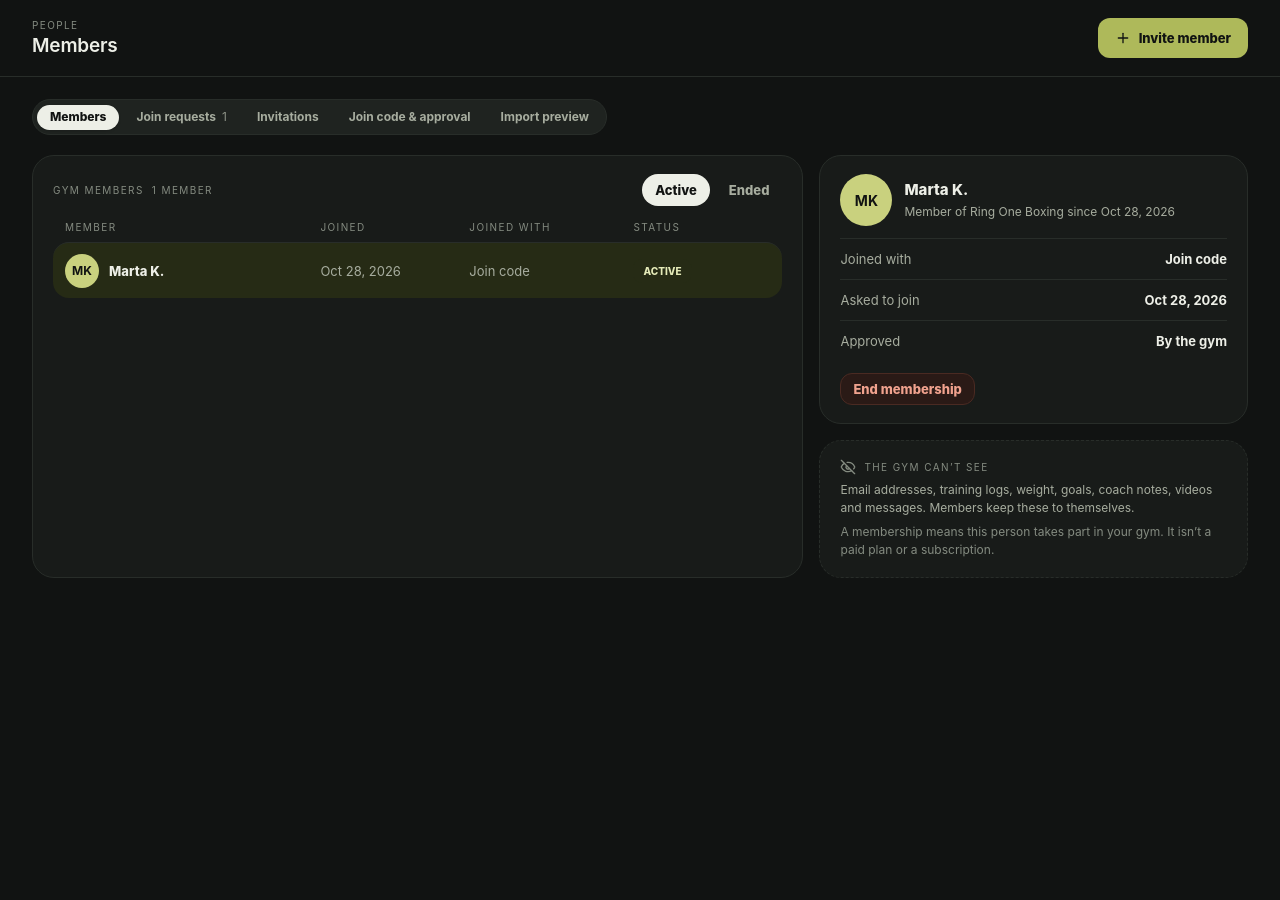
it: GymMembers (WG3, SF-96) › says when a request was already decided elsewhere, instead of claiming a result
Click the tab "Join requests 1".
click(182, 117)  # box [123,104,240,130]
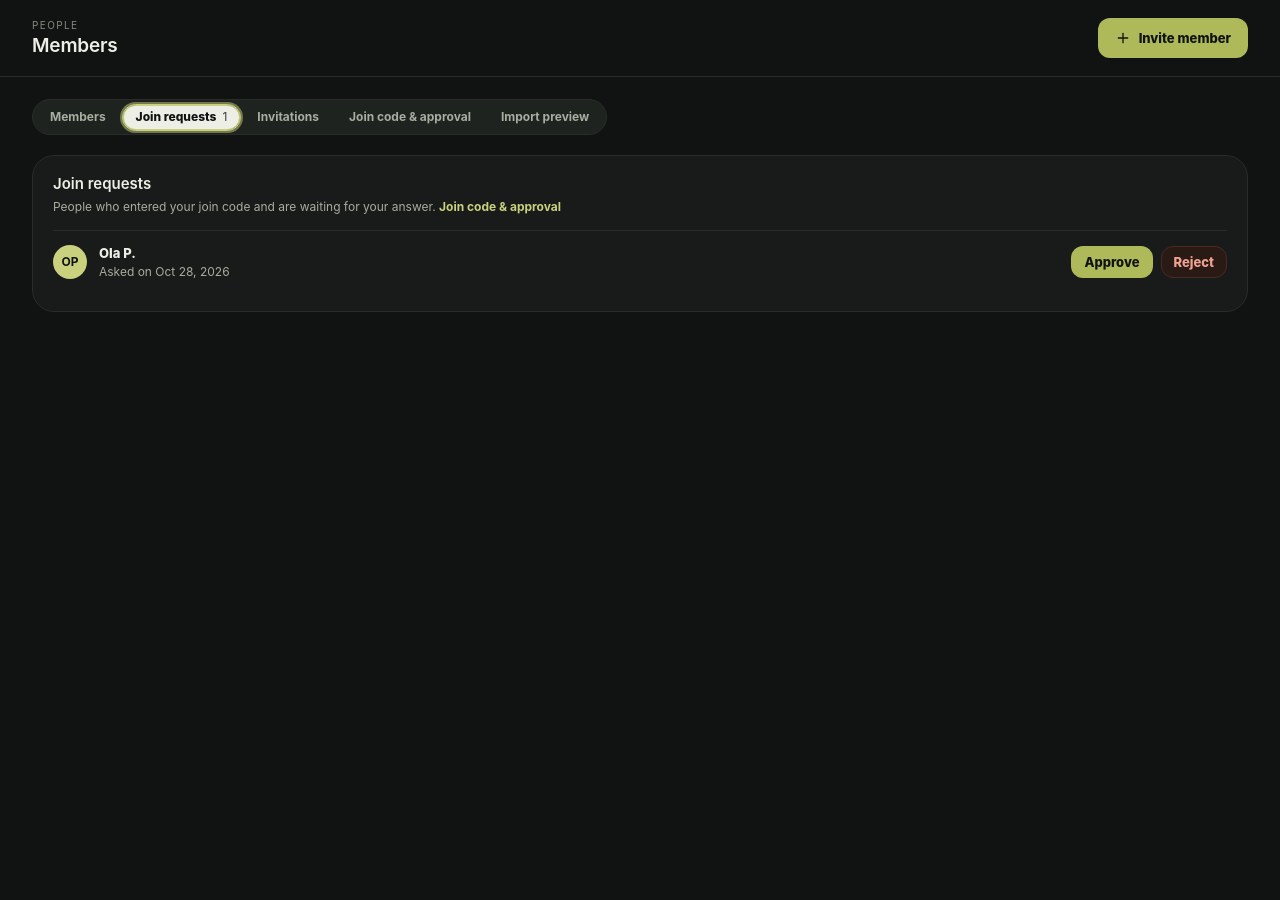
Click the button with aria-label "Approve Ola P.".
click(1112, 262)  # box [1071,246,1152,278]
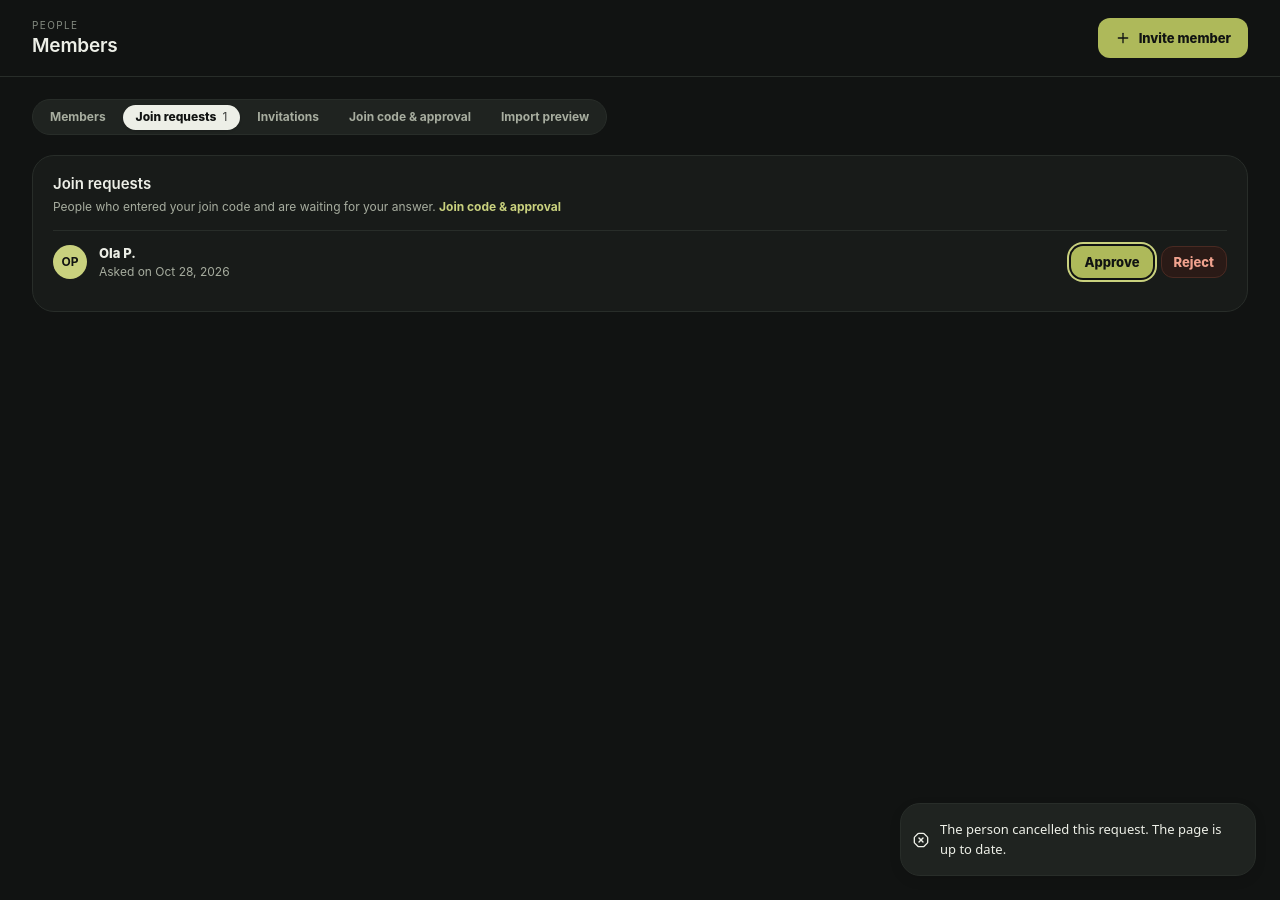
Expected: the text "The person cancelled this request. The page is up to date." is shown, [940,820,1239,859]
